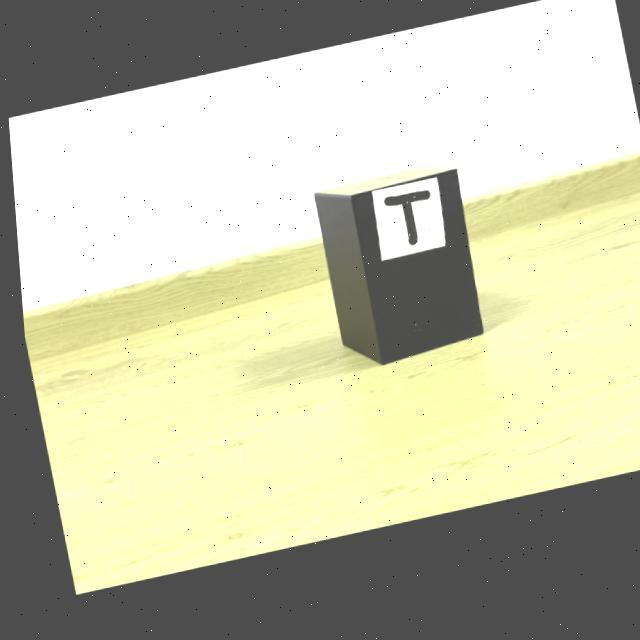T: (380, 197, 426, 253)
